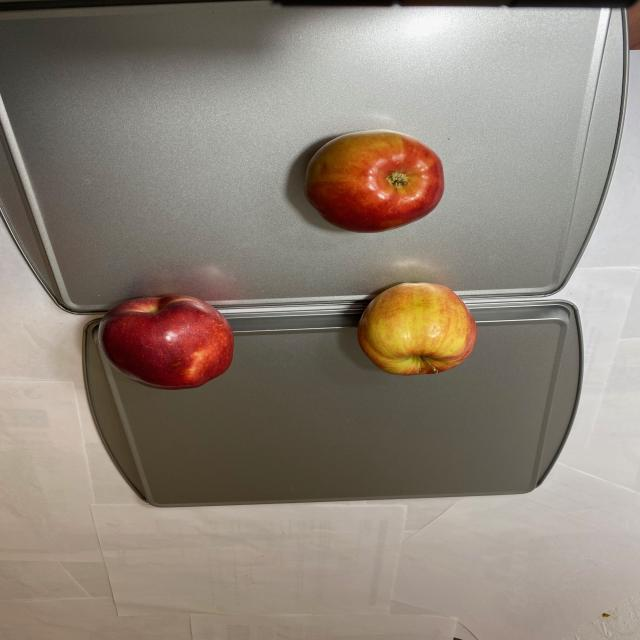apple: (293, 130, 480, 376), (95, 285, 241, 393)
